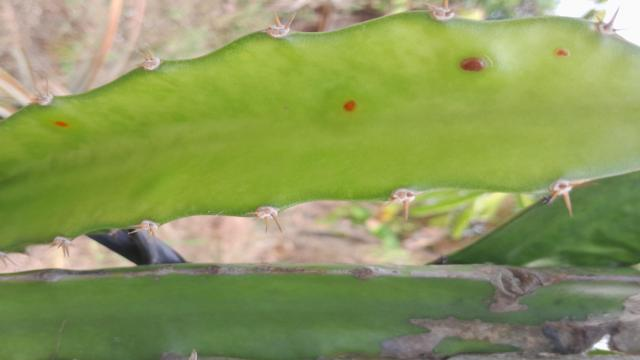stemcanker: (453, 55, 500, 75), (550, 41, 575, 65), (339, 96, 363, 118), (44, 118, 75, 134)
